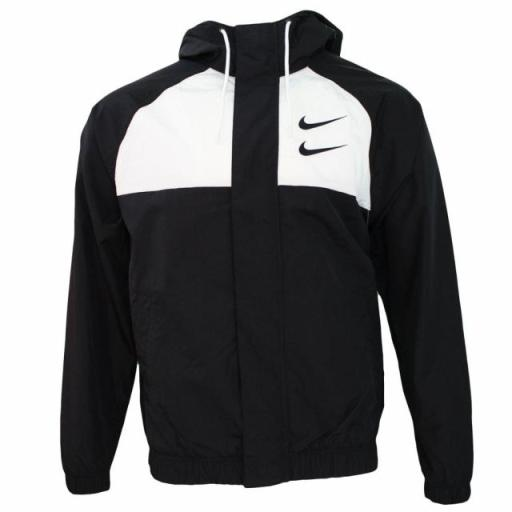Nike: (296, 137, 350, 159)
